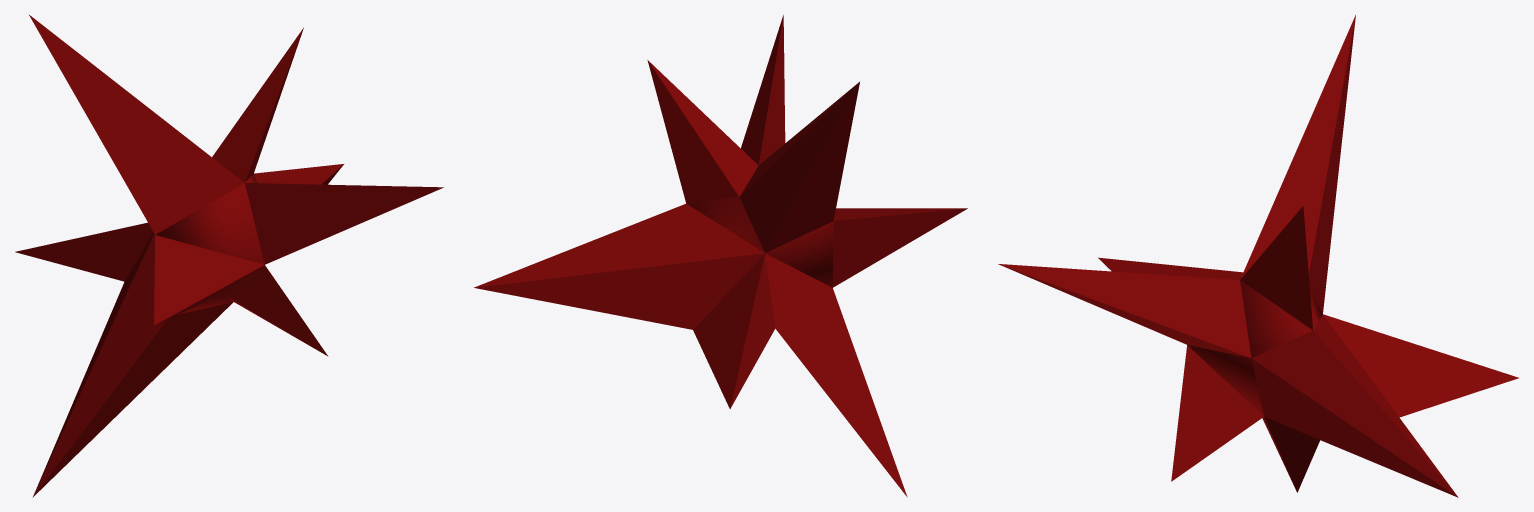
The model's file is miner_laser_fx.fbx.
3 views of the same model, side by side, from view 1: azimuth 30°, elevation 25°; view 2: azimuth 150°, elevation 25°; view 3: azimuth 270°, elevation 25° (orthographic). The views are drawn at different scales.
Parts seen in each view (by area): view 1: GeoSphere002; view 2: GeoSphere002; view 3: GeoSphere002.
Boxes of the visible parts, box(x1,y1,x2,y2) form: GeoSphere002: box(15, 15, 443, 497); GeoSphere002: box(474, 15, 967, 497); GeoSphere002: box(998, 15, 1518, 497).
Size of the model in its own units: 15.58 by 17.61 by 16.97.
